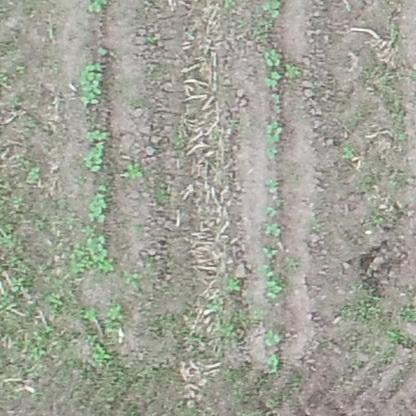vc: (80, 61, 110, 106), (86, 186, 107, 224), (86, 145, 105, 172), (263, 278, 284, 301), (263, 119, 282, 144), (262, 47, 283, 69), (262, 1, 286, 19), (86, 234, 107, 252), (264, 219, 284, 237), (25, 164, 44, 182), (264, 327, 282, 346), (264, 72, 282, 90), (264, 353, 280, 372), (85, 130, 110, 142), (261, 245, 279, 259), (264, 178, 278, 192), (263, 203, 278, 216), (265, 149, 280, 160), (96, 45, 108, 56)
